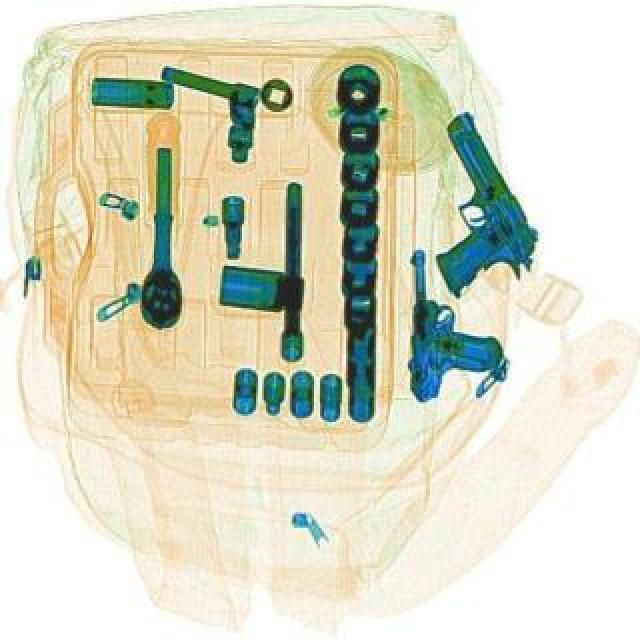gun: (368, 112, 552, 310), (406, 250, 500, 406)
